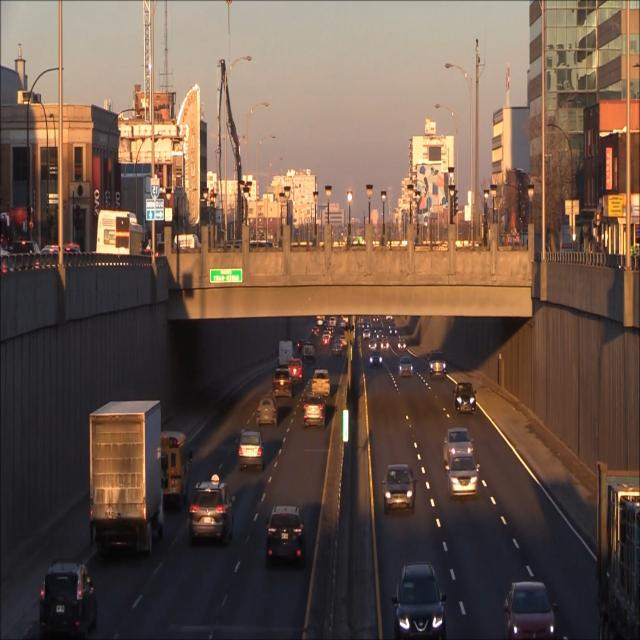Car: (86, 399, 163, 559), (37, 566, 97, 640), (393, 563, 448, 640), (186, 476, 234, 550), (155, 430, 193, 514), (505, 581, 558, 640), (264, 503, 308, 570), (382, 463, 416, 512), (446, 454, 480, 503), (441, 424, 474, 461), (236, 431, 264, 471), (301, 394, 326, 430), (452, 380, 476, 416), (254, 396, 278, 429), (270, 367, 293, 400), (426, 351, 447, 381), (310, 370, 330, 401), (287, 358, 303, 389), (396, 354, 414, 379), (368, 351, 385, 368)
